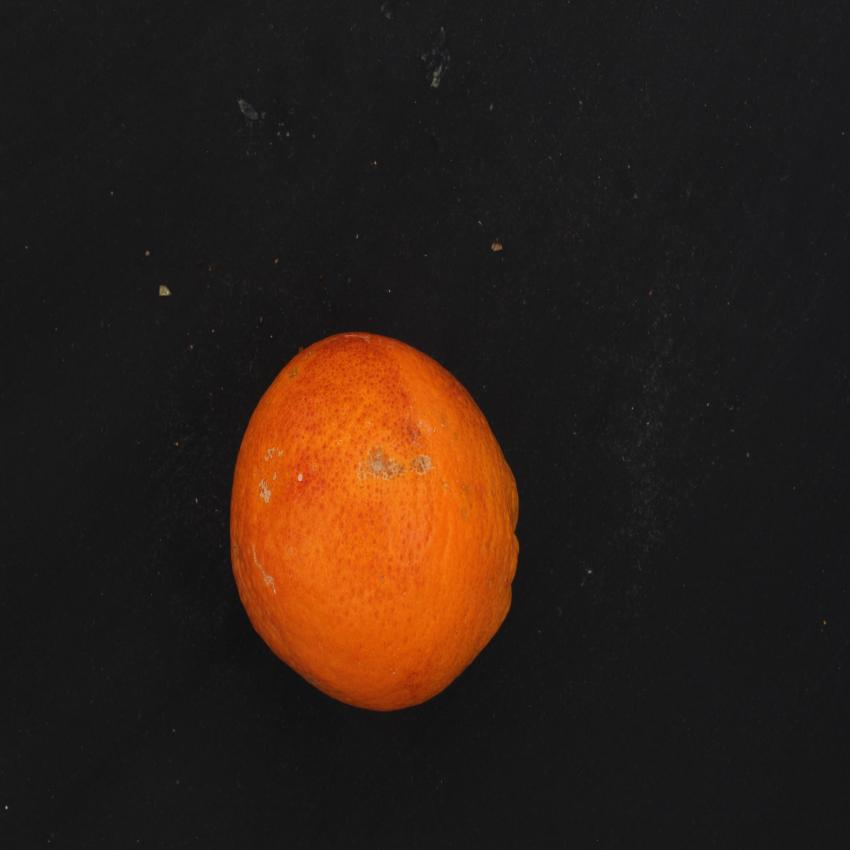Mal estado: (224, 325, 546, 722)
